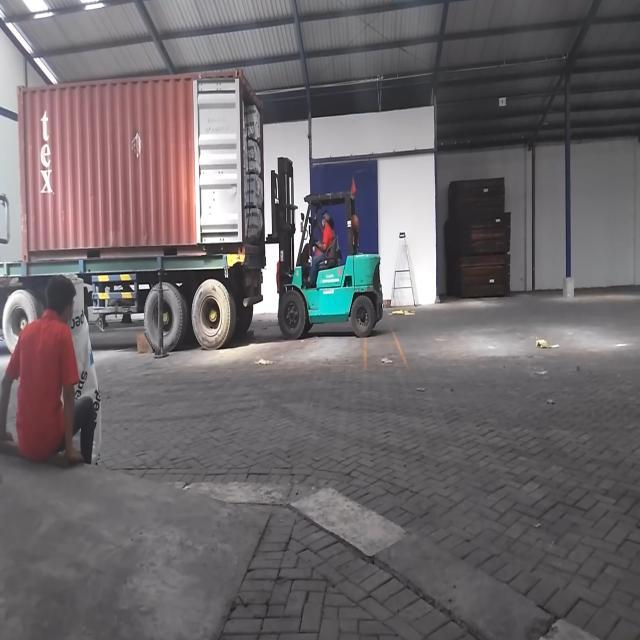driver: (306, 213, 336, 289)
forklift: (268, 152, 384, 341)
person: (0, 274, 98, 469)
